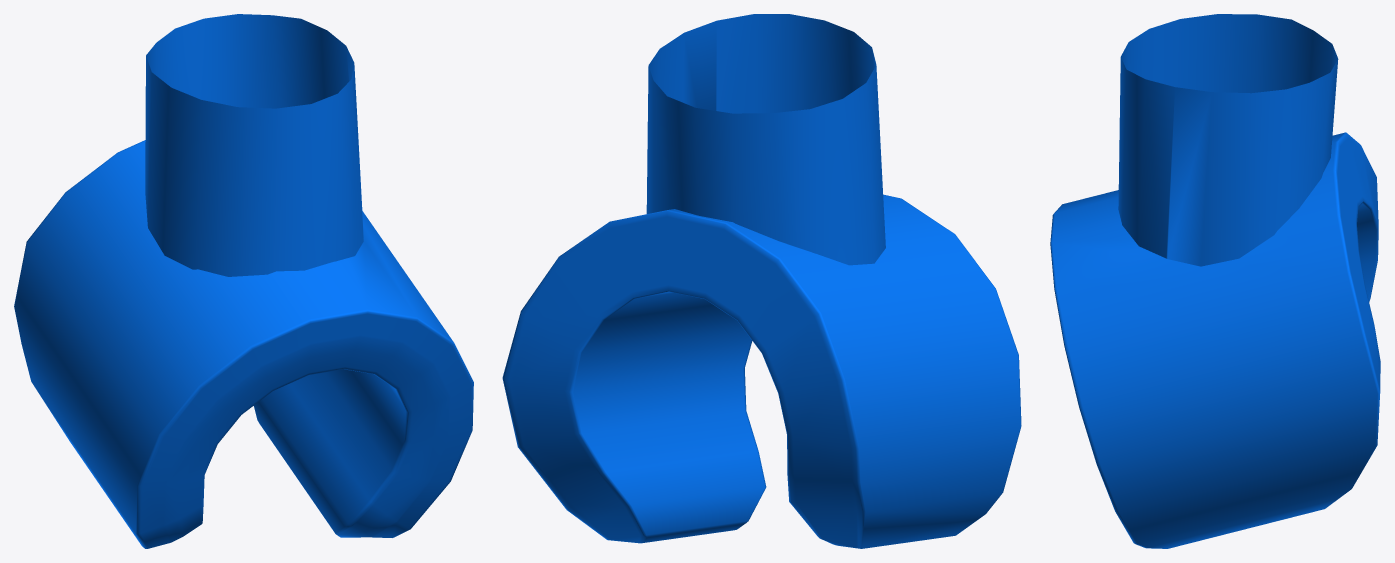
Rendered from main-g.obj.
3 renders of one model, left to right at view 1: azimuth 30°, elevation 25°; view 2: azimuth 150°, elevation 25°; view 3: azimuth 270°, elevation 25°, orthographic. The views are drawn at different scales.
Parts seen in each view (by area): view 1: main-g; view 2: main-g; view 3: main-g.
Boxes of the visible parts, x1,y1,x2,y2 form: main-g: (14,14,473,548); main-g: (502,14,1021,548); main-g: (1050,14,1380,548).
Bounding box in the file's own units: 0.4265 × 0.5677 × 0.3736.
Materials: 1 (1 with a texture image).
